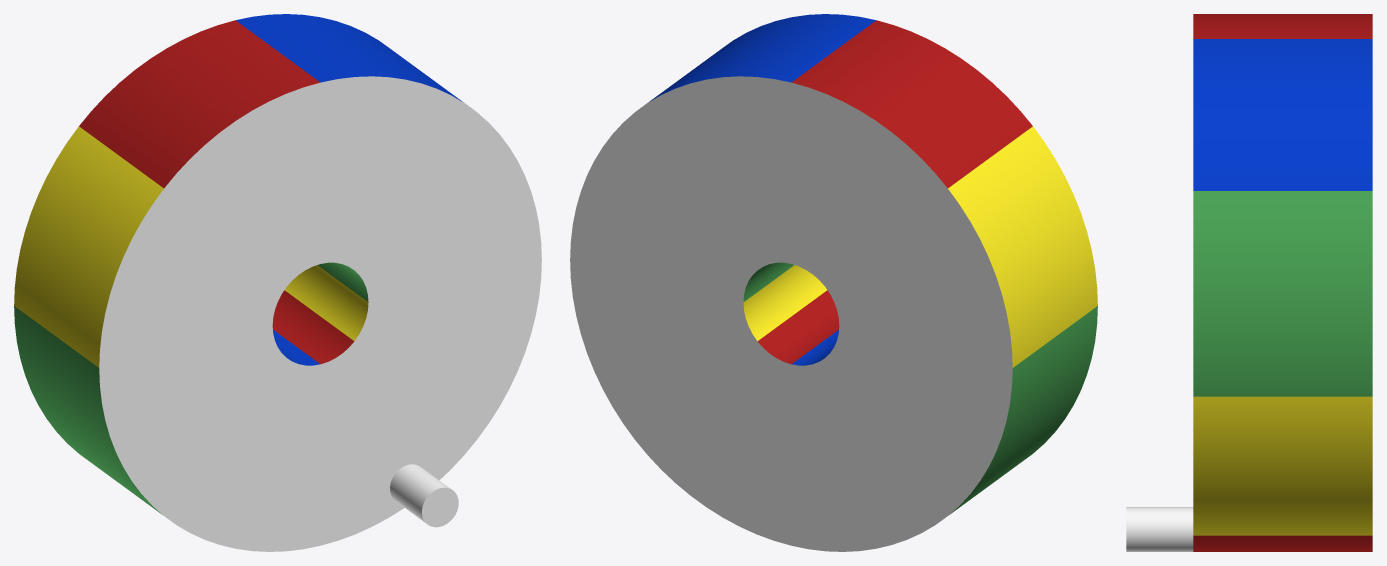
The model's file is Colour_Pipe.fbx.
3 renders of one model, left to right at view 1: azimuth 30°, elevation 25°; view 2: azimuth 150°, elevation 25°; view 3: azimuth 270°, elevation 25°, orthographic. The views are drawn at different scales.
Visible parts, largest first — view 1: color, color-3, color-4, color-6, color-2; view 2: color, color-3, color-4, color-6, color-2; view 3: color-6, color-2, color-3, color-4, color.
Part boxes in pixels (x1=…): color: x1=99, y1=76, x2=541, y2=551; color-3: x1=14, y1=126, x2=368, y2=367; color-4: x1=79, y1=20, x2=354, y2=364; color-6: x1=14, y1=262, x2=368, y2=514; color-2: x1=235, y1=14, x2=463, y2=365; color: x1=570, y1=76, x2=1012, y2=551; color-3: x1=743, y1=126, x2=1097, y2=367; color-4: x1=757, y1=20, x2=1032, y2=364; color-6: x1=743, y1=262, x2=1097, y2=514; color-2: x1=648, y1=14, x2=876, y2=365; color-6: x1=1193, y1=191, x2=1372, y2=396; color-2: x1=1193, y1=39, x2=1372, y2=190; color-3: x1=1193, y1=396, x2=1372, y2=535; color-4: x1=1193, y1=14, x2=1372, y2=551; color: x1=1126, y1=507, x2=1193, y2=551.
Bounding box in the file's own units: 6 × 6 × 2.75.
